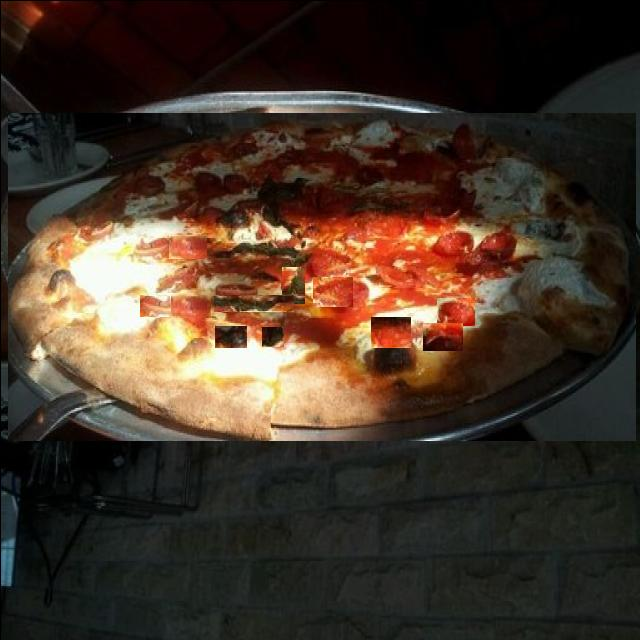basil: (213, 294, 293, 311), (264, 350, 306, 381), (281, 266, 304, 303), (214, 325, 246, 347), (261, 326, 283, 346)
pepperoni: (370, 316, 410, 347), (312, 276, 352, 306), (422, 322, 462, 350), (436, 297, 474, 325), (315, 341, 353, 369), (481, 294, 516, 321), (327, 248, 366, 272), (168, 234, 206, 258), (376, 265, 414, 286), (139, 294, 170, 316)
pizza: (7, 112, 635, 440)
